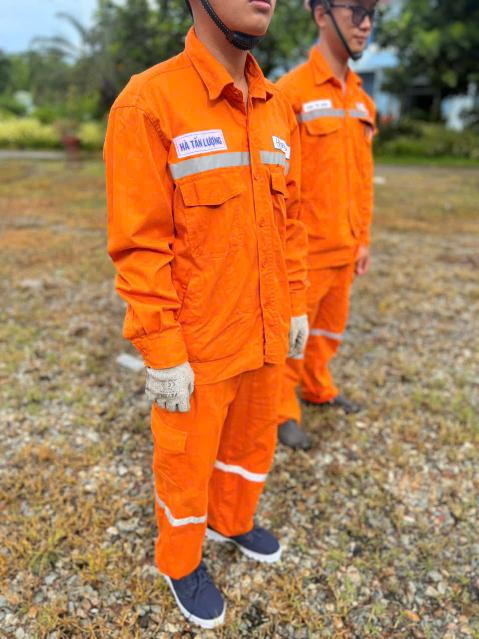gloves: (128, 361, 217, 423), (278, 316, 318, 362)
shoes: (146, 551, 237, 639), (209, 495, 288, 568), (302, 364, 369, 424), (264, 394, 310, 462)
